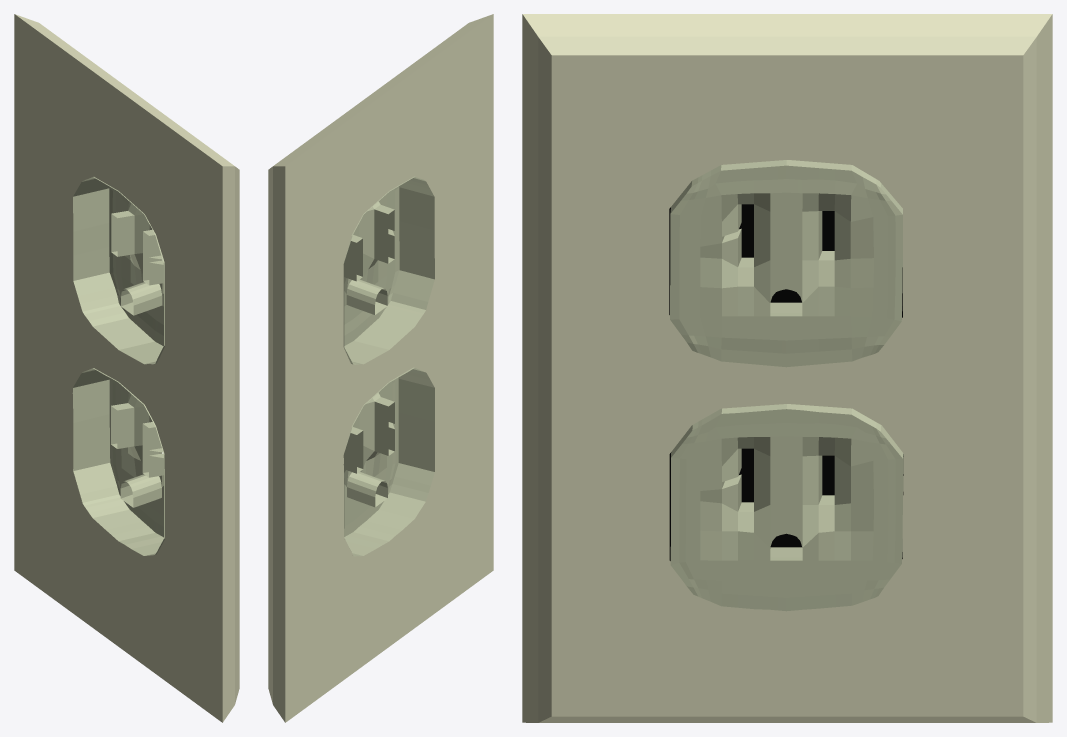
File: outlets.fbx
3 views of the same model, side by side, from view 1: azimuth 30°, elevation 25°; view 2: azimuth 150°, elevation 25°; view 3: azimuth 270°, elevation 25° (orthographic). The views are drawn at different scales.
Parts seen in each view (by area): view 1: OutletPlate, OutletPorts; view 2: OutletPlate, OutletPorts; view 3: OutletPlate, OutletPorts, BlackEmptyness.
Part boxes in pixels (<box>): OutletPlate: <box>14,14,239,722</box>; OutletPorts: <box>72,177,164,555</box>; OutletPlate: <box>268,14,493,722</box>; OutletPorts: <box>343,176,434,556</box>; OutletPlate: <box>522,14,1052,722</box>; OutletPorts: <box>670,160,903,611</box>; BlackEmptyness: <box>669,204,903,560</box>.
Size of the model in its own units: 20.6 by 295 by 200.
